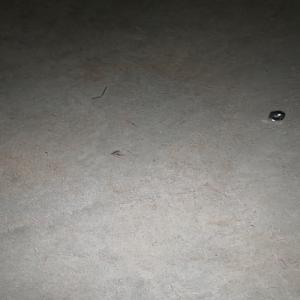Nut: (265, 110, 284, 122)
